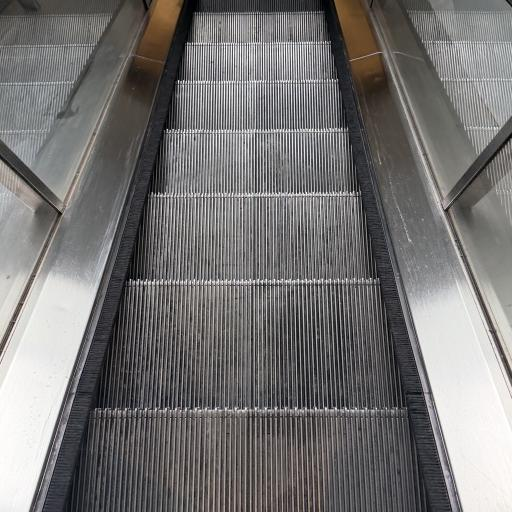Stairs: (70, 0, 424, 512)
